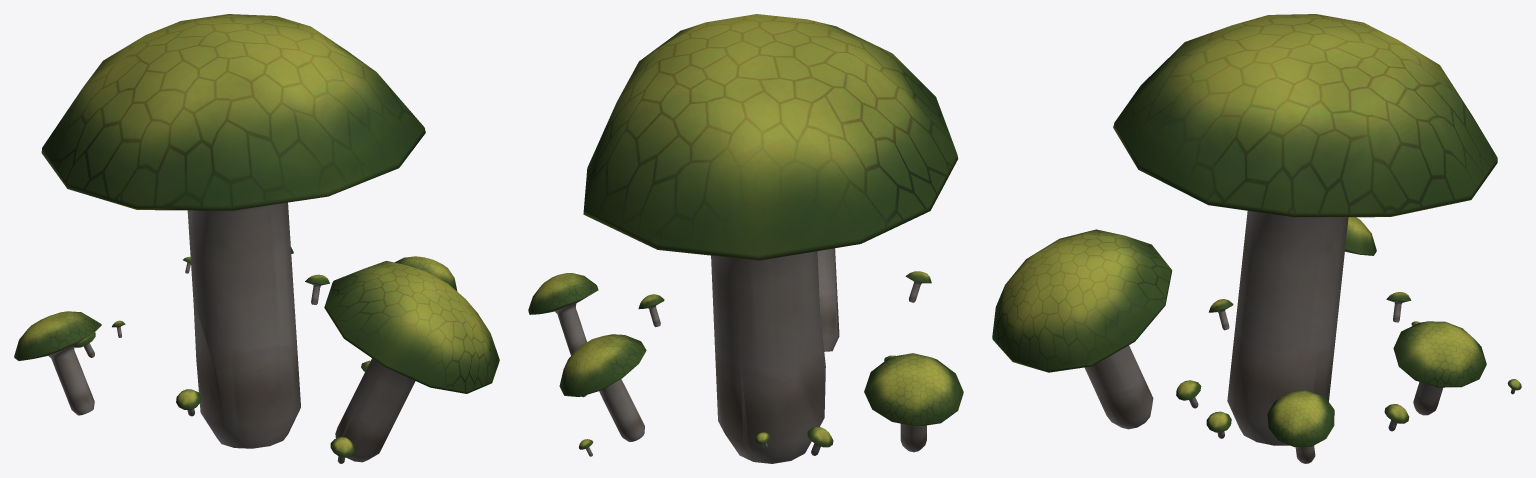
Rendered from Mushroom.fbx.
3 renders of one model, left to right at view 1: azimuth 30°, elevation 25°; view 2: azimuth 150°, elevation 25°; view 3: azimuth 270°, elevation 25°, orthographic. The views are drawn at different scales.
Parts seen in each view (by area): view 1: Mushroom Big, Mushroom Mid, Mushroom Small; view 2: Mushroom Big, Mushroom Mid, Mushroom Small; view 3: Mushroom Big, Mushroom Mid, Mushroom Small.
Boxes of the visible parts, bbox=[...] form: Mushroom Big: bbox=[41, 14, 499, 462]; Mushroom Mid: bbox=[14, 247, 457, 415]; Mushroom Small: bbox=[74, 256, 370, 463]; Mushroom Big: bbox=[583, 14, 958, 463]; Mushroom Mid: bbox=[528, 273, 963, 452]; Mushroom Small: bbox=[579, 271, 931, 456]; Mushroom Big: bbox=[992, 14, 1497, 445]; Mushroom Mid: bbox=[1267, 217, 1486, 463]; Mushroom Small: bbox=[1176, 292, 1521, 438].
Size of the model in its own units: 0.5639 by 0.5101 by 0.6166.
